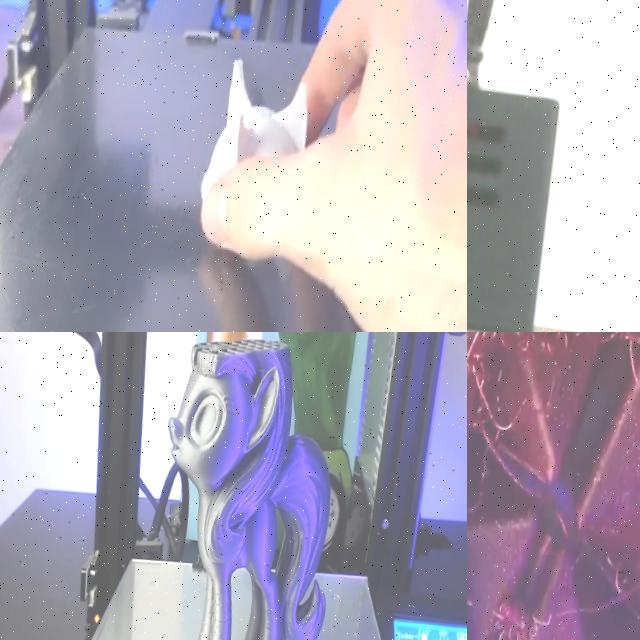spaghetti: (467, 332, 640, 640), (477, 581, 573, 640)
